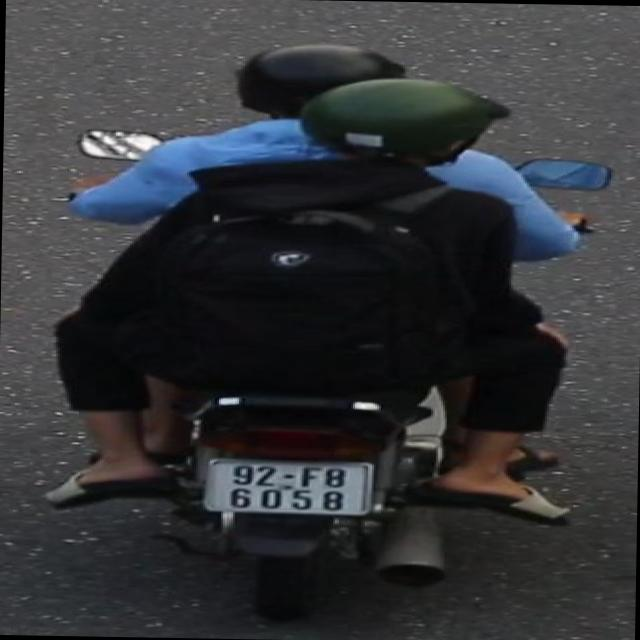LP: (196, 453, 382, 522)
helmet: (290, 75, 512, 172), (230, 39, 420, 114)
